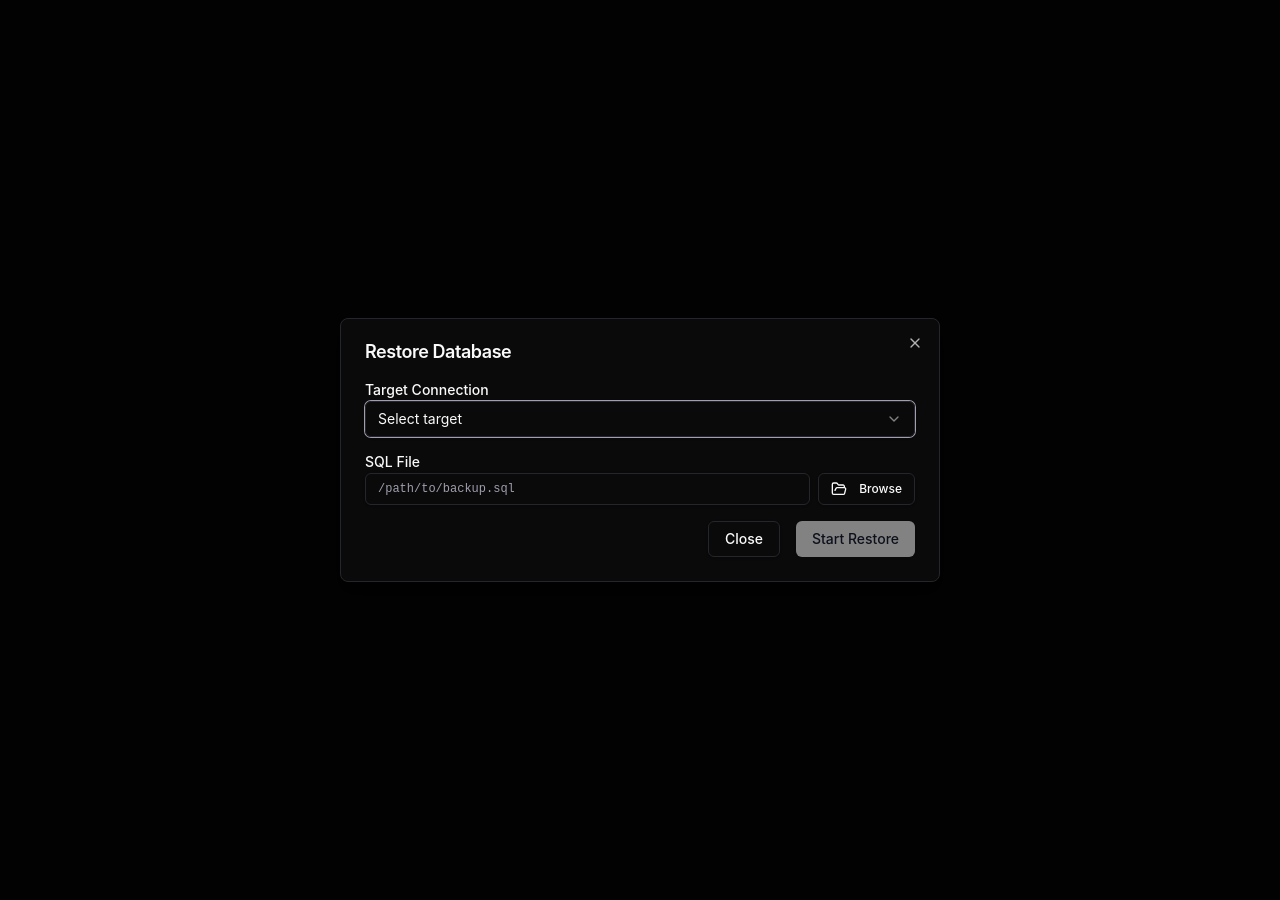
shows database select and file input after target is selected
The image size is (1280, 900).
Click the dropdown "Select target".
click(420, 418)  # box [365,401,915,437]
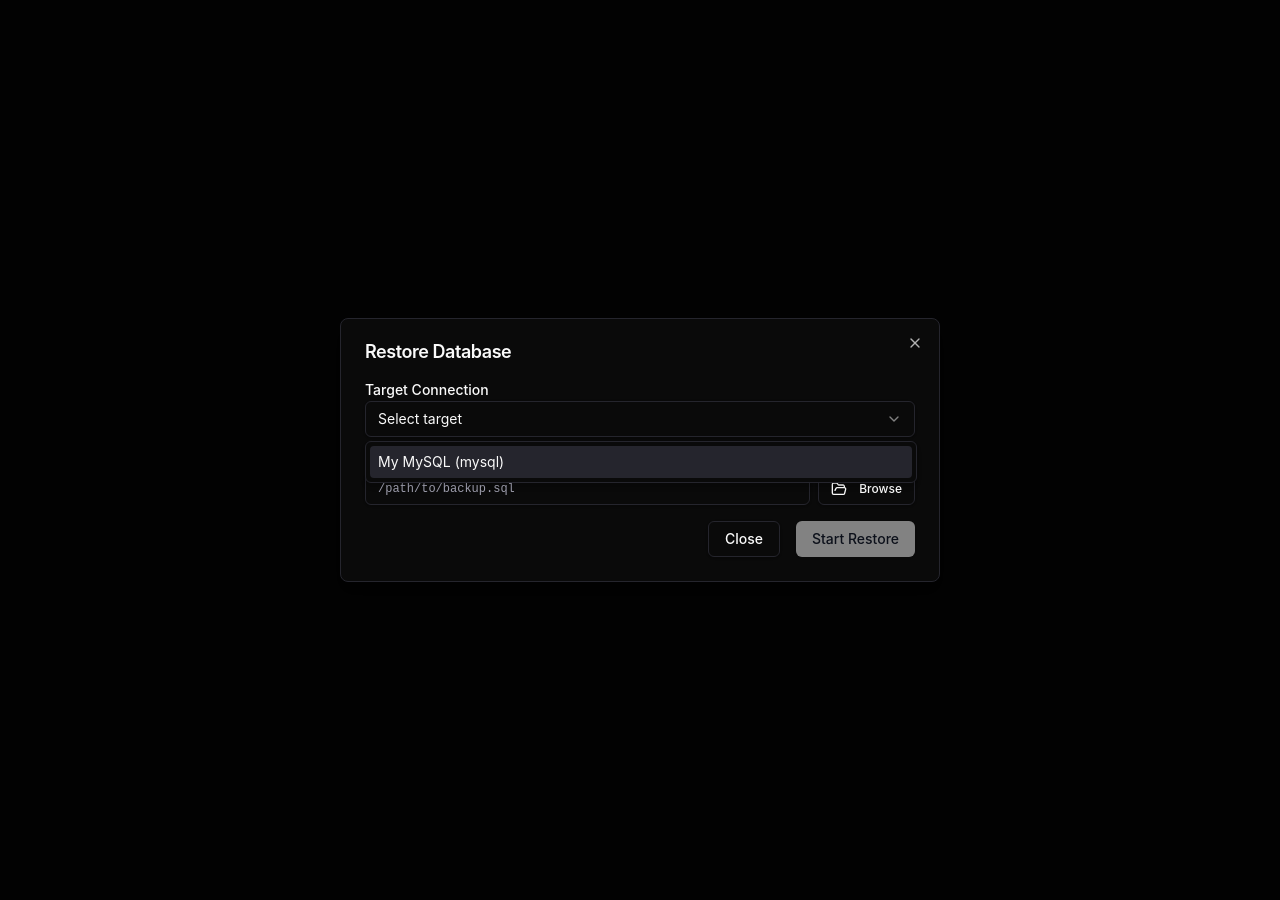
Click the option "My MySQL (mysql)".
click(414, 462)  # box [370,446,912,478]
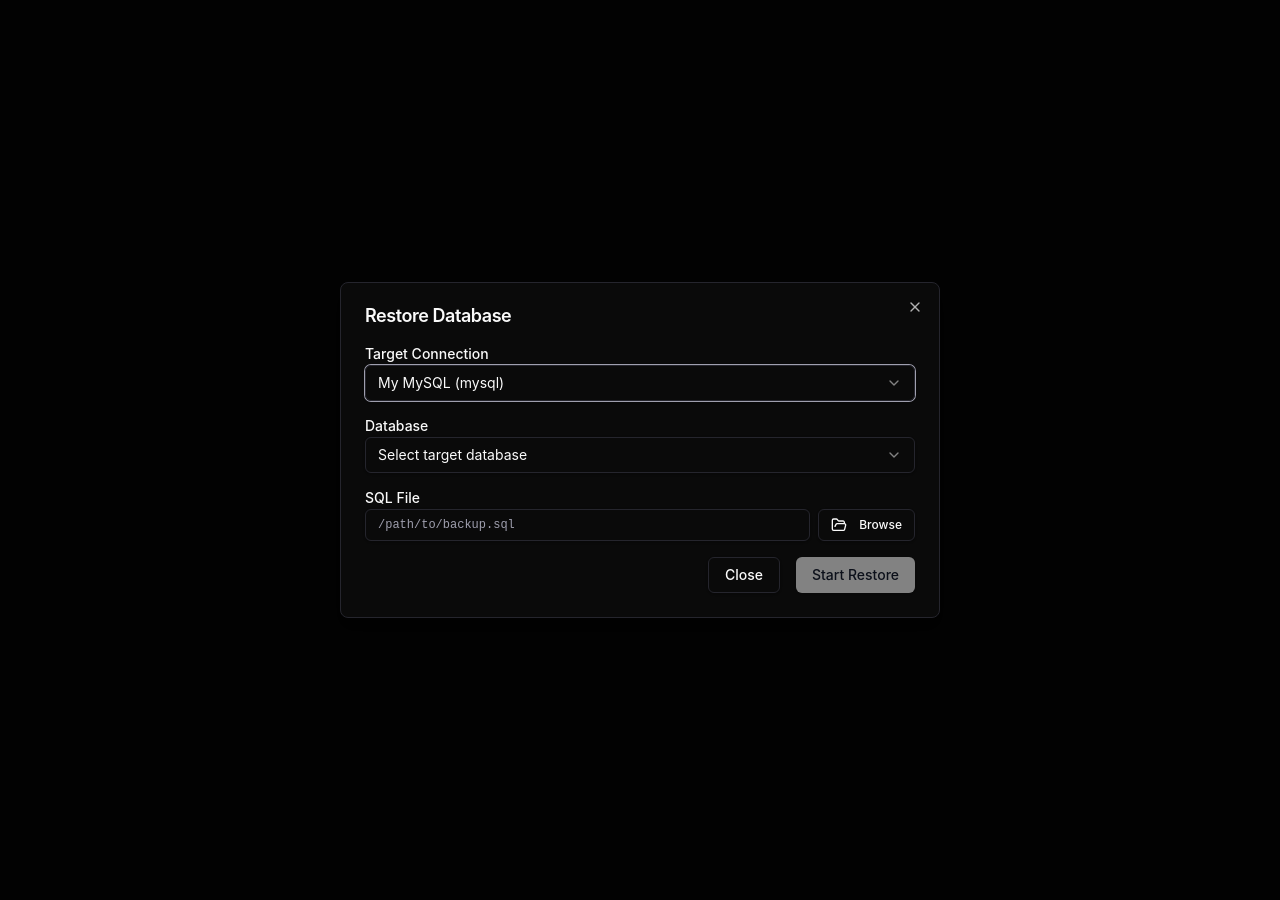
Expected: the field with placeholder "/path/to/backup.sql" is shown, [365,509,810,541]
Expected: the text "Select target database" is shown, [378,445,527,465]
